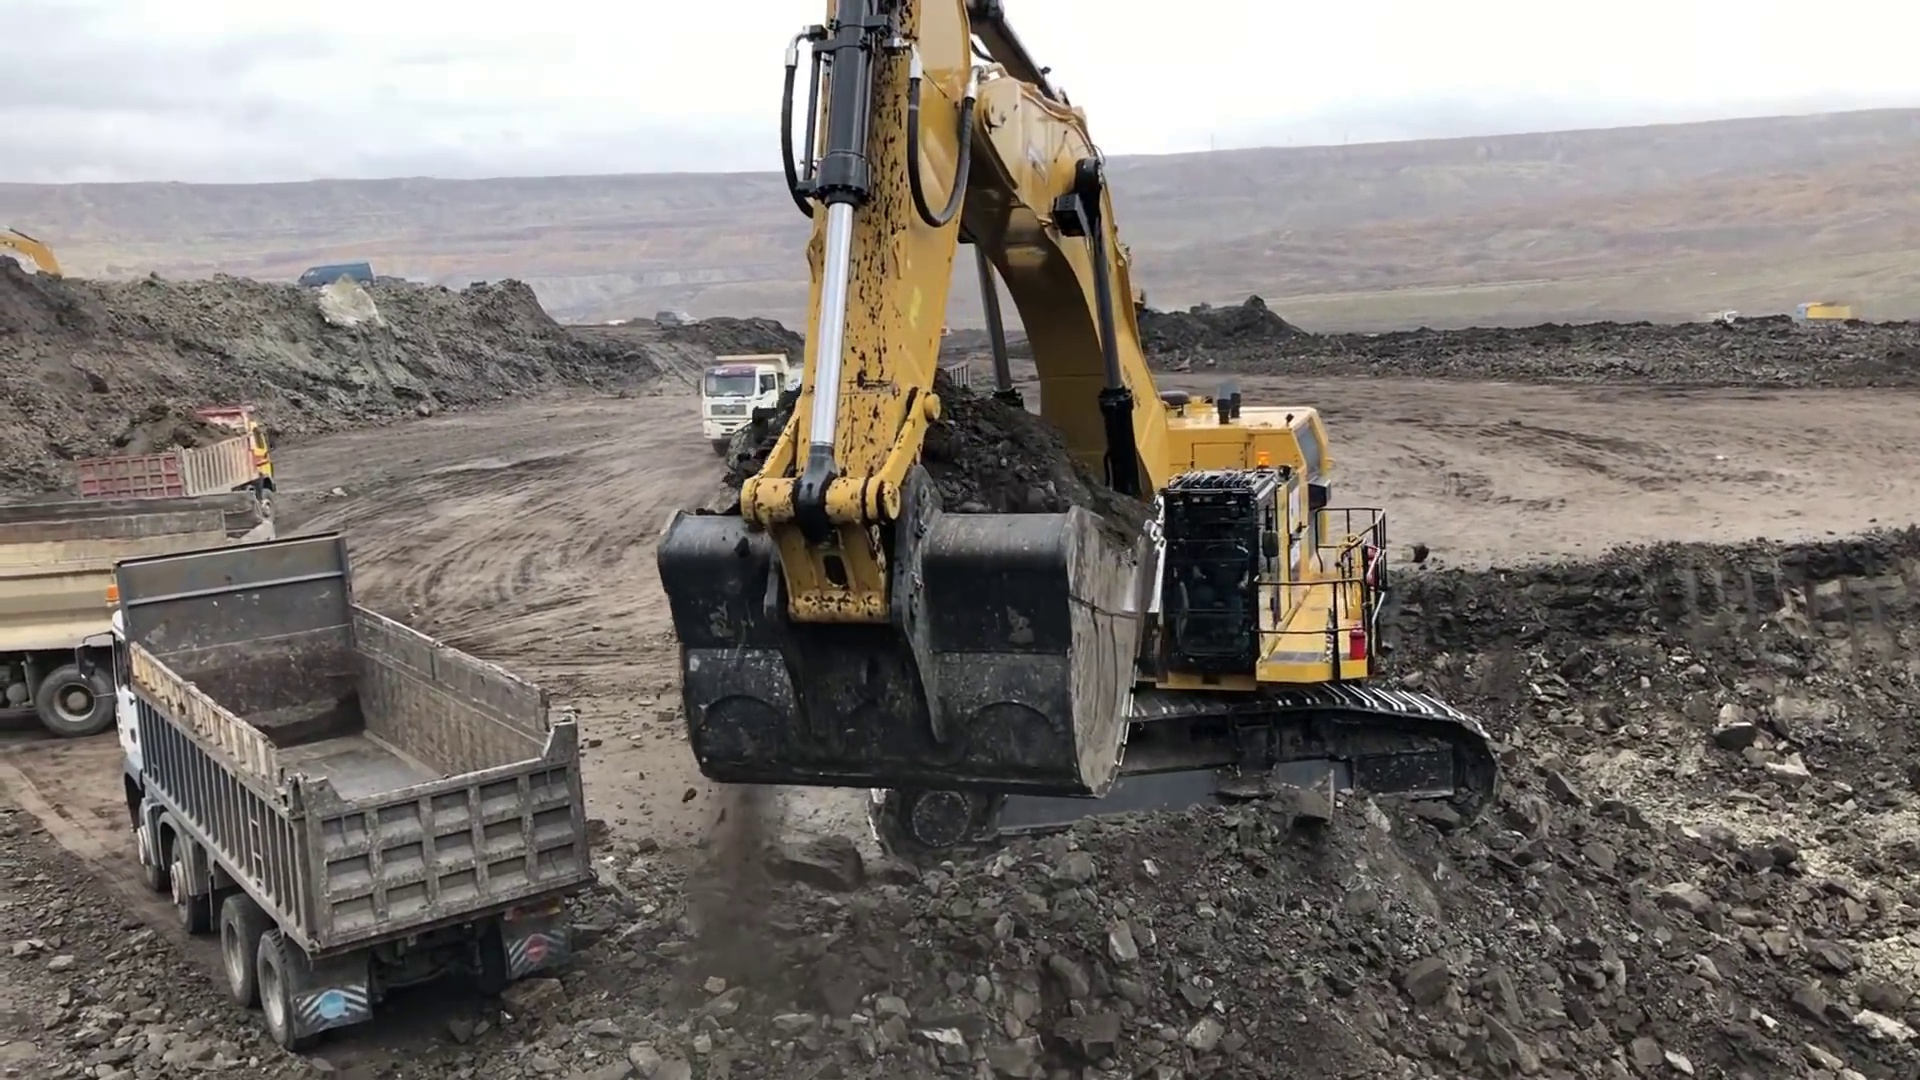excavator: (659, 4, 1497, 856)
truck: (103, 534, 583, 1052), (5, 488, 270, 742), (71, 396, 280, 520), (698, 347, 870, 451), (294, 256, 375, 295), (1792, 299, 1857, 320), (1705, 307, 1745, 327)
